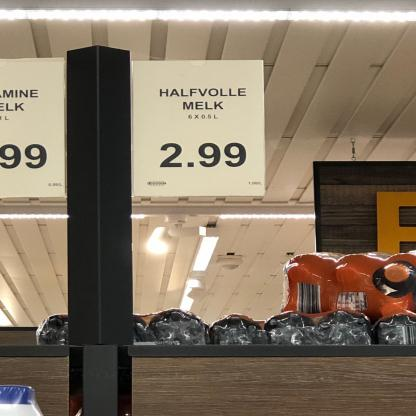prtg: (131, 60, 268, 199), (1, 58, 67, 199)
